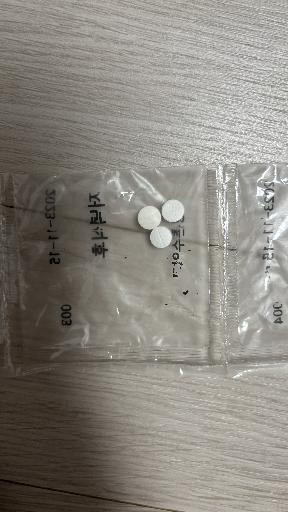Besti-on: (150, 226, 172, 248)
Gaster: (138, 206, 161, 230)
Solondo: (161, 199, 184, 222)
vinyl: (0, 165, 212, 364)
